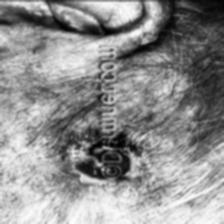Potentially Malignant Skin Tumors: (65, 130, 140, 184)
